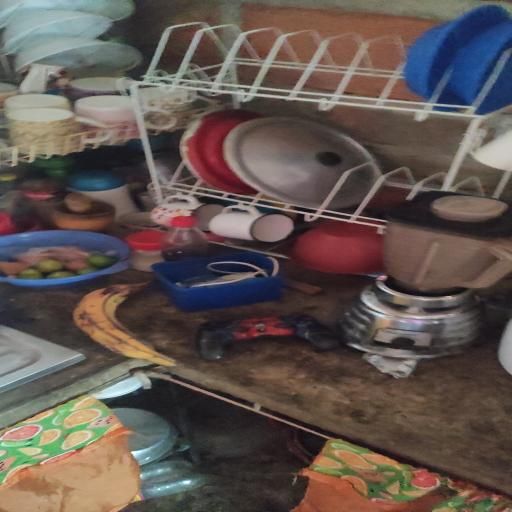ControlPlay4: (196, 314, 340, 361)
